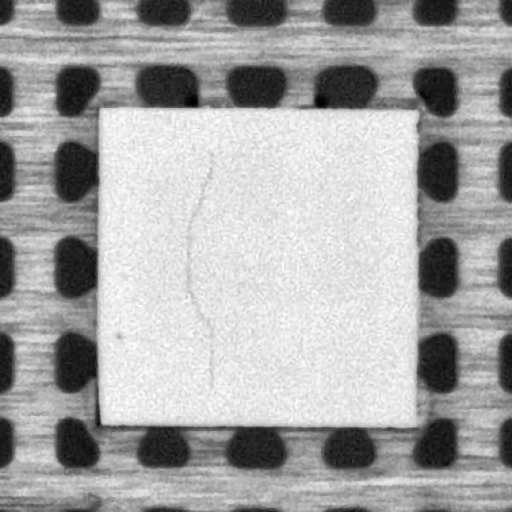DIE_CRACK: (182, 154, 218, 397)
